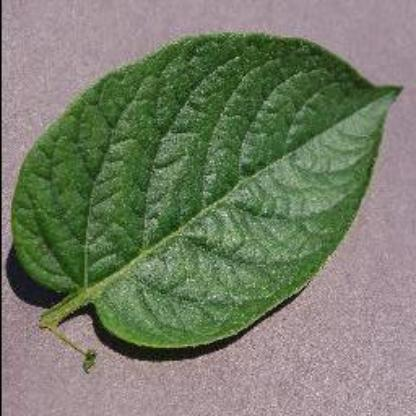Healthy-plant: (9, 25, 411, 376)
